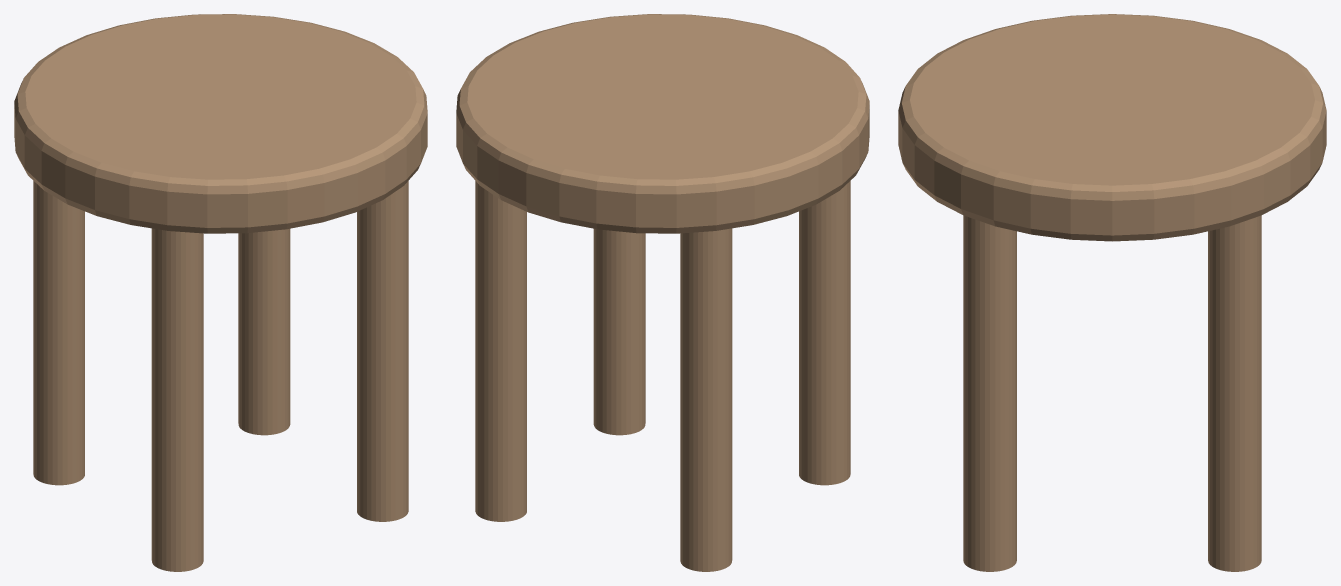
File: wooden_stool.glb
The picture shows the model from 3 angles, left to right: view 1: azimuth 30°, elevation 25°; view 2: azimuth 150°, elevation 25°; view 3: azimuth 270°, elevation 25°; orthographic projection. The views are drawn at different scales.
Parts seen in each view (by area): view 1: Stool_Seat, Stool_Leg_0, Stool_Leg_1, Stool_Leg_2, Stool_Leg_3; view 2: Stool_Seat, Stool_Leg_2, Stool_Leg_3, Stool_Leg_0, Stool_Leg_1; view 3: Stool_Seat, Stool_Leg_1, Stool_Leg_3.
Part boxes in pixels (<box>): Stool_Seat: <box>14,14,427,233</box>; Stool_Leg_0: <box>151,228,203,571</box>; Stool_Leg_1: <box>357,181,408,521</box>; Stool_Leg_2: <box>33,181,84,485</box>; Stool_Leg_3: <box>238,228,290,435</box>; Stool_Seat: <box>456,14,869,233</box>; Stool_Leg_2: <box>680,228,732,571</box>; Stool_Leg_3: <box>475,181,526,521</box>; Stool_Leg_0: <box>799,181,850,485</box>; Stool_Leg_1: <box>593,228,645,435</box>; Stool_Seat: <box>898,14,1326,241</box>; Stool_Leg_1: <box>963,215,1016,571</box>; Stool_Leg_3: <box>1208,215,1261,571</box>.
Size of the model in its own units: 0.56 by 0.59 by 0.56.
